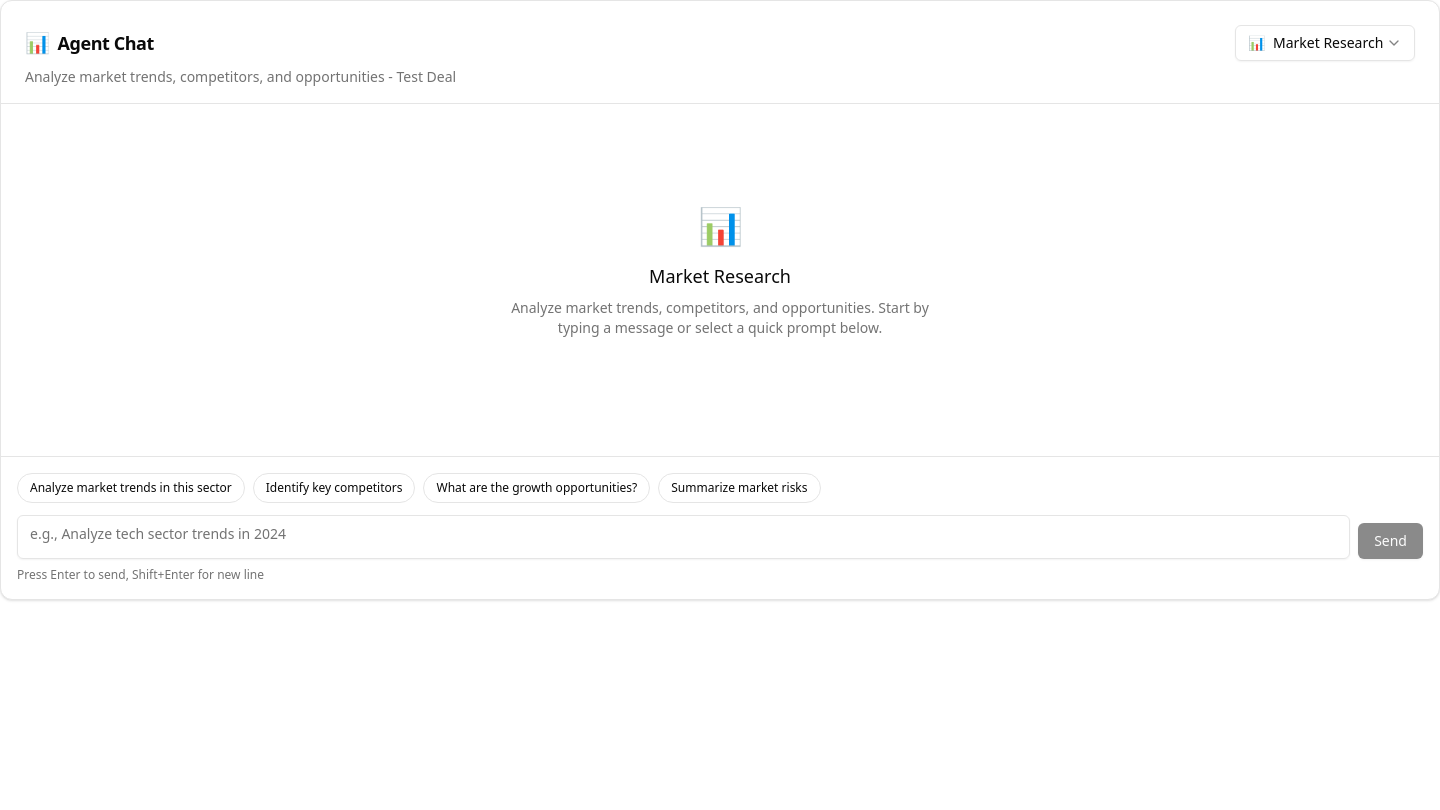
Test: AgentChat › populates input when clicking quick prompt
The width and height of the screenshot is (1440, 810).
// Click a quick prompt
What coordinates should you click on to do the following:
click the button "Analyze market trends in this sector"
I would click on:
 (131, 488)
Its box is [17,473,245,503].
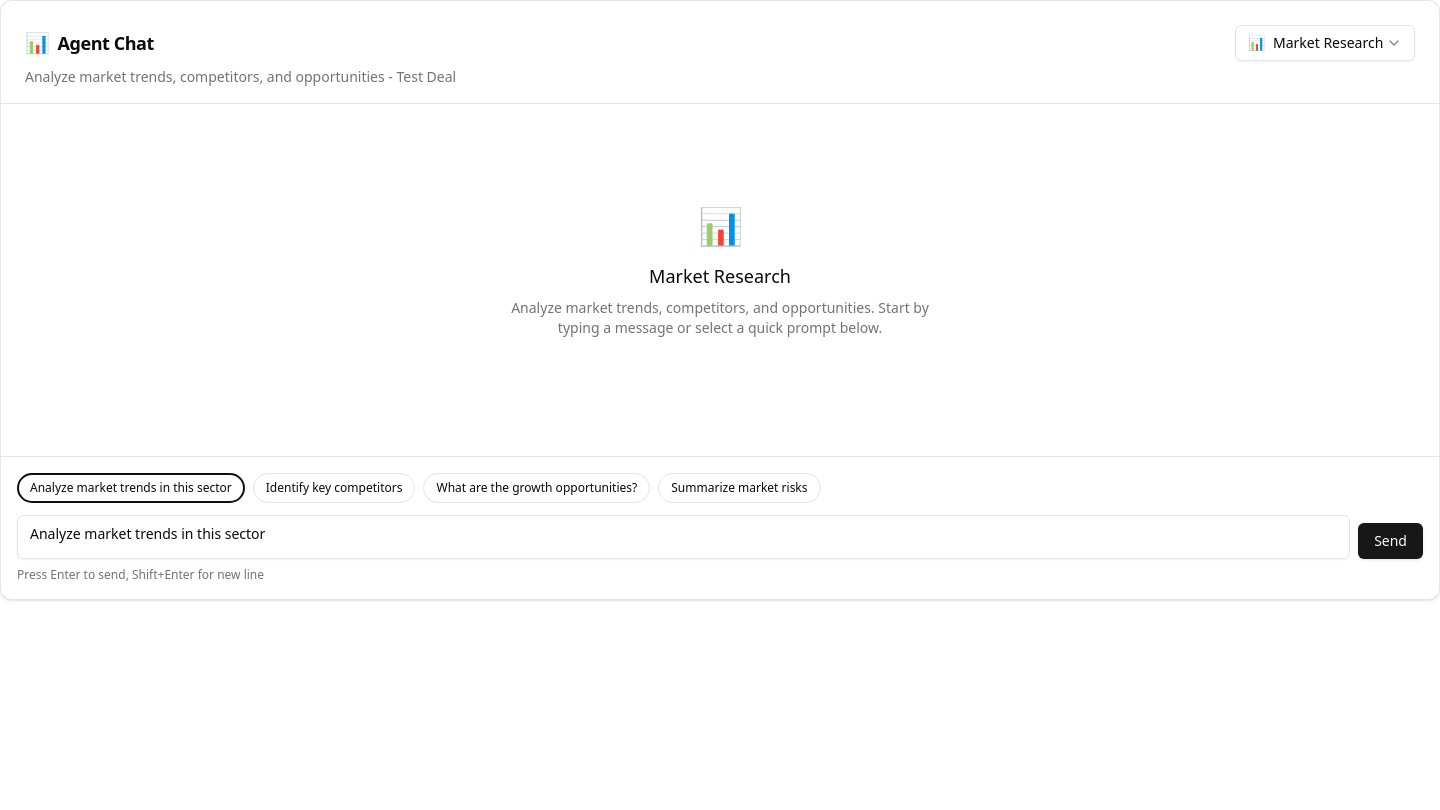
Now the text box with placeholder "e.g., Analyze tech sector trends in 2024" holds "Analyze market trends in this sector", box [17,515,1350,559]
